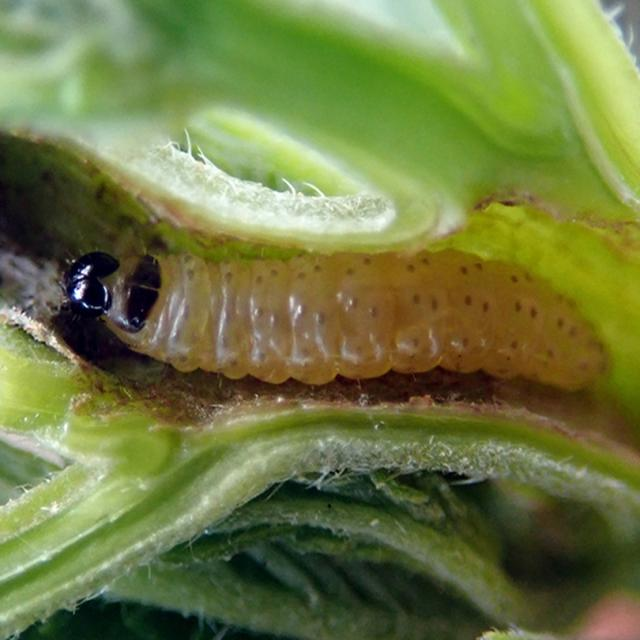cornborer-Larva-: (40, 210, 616, 412)
